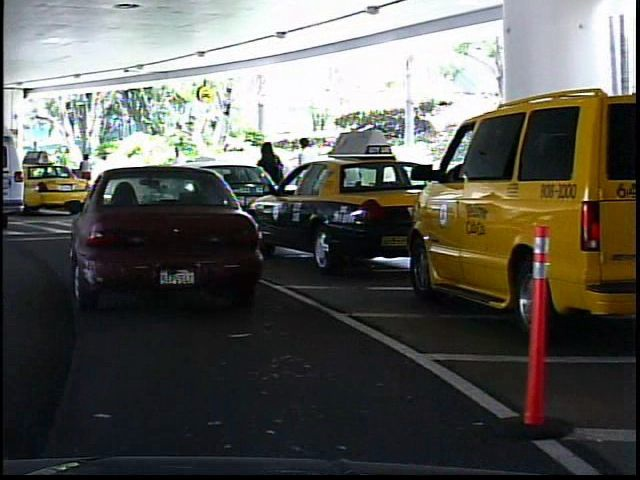person: (253, 136, 288, 221), (289, 132, 321, 212), (165, 141, 190, 204), (73, 149, 96, 195)
